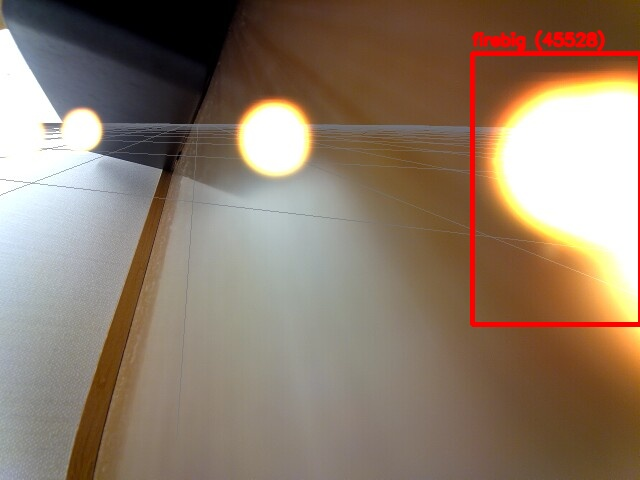firebig: (472, 53, 640, 324)
